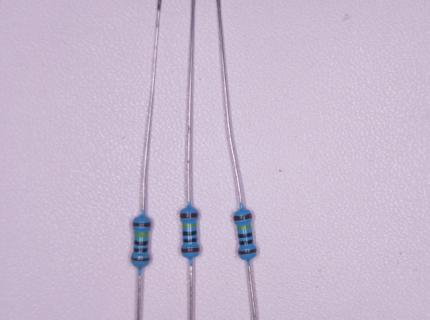Black band: (239, 239, 254, 246), (238, 232, 253, 238), (134, 240, 149, 245), (183, 238, 197, 243), (183, 231, 197, 236), (133, 248, 148, 252)
Brown band: (233, 213, 252, 221), (238, 248, 257, 255), (181, 247, 200, 253), (180, 212, 198, 218), (131, 256, 150, 261), (132, 222, 151, 227)
Yellow band: (237, 224, 251, 230), (182, 222, 197, 227), (134, 233, 148, 238)
